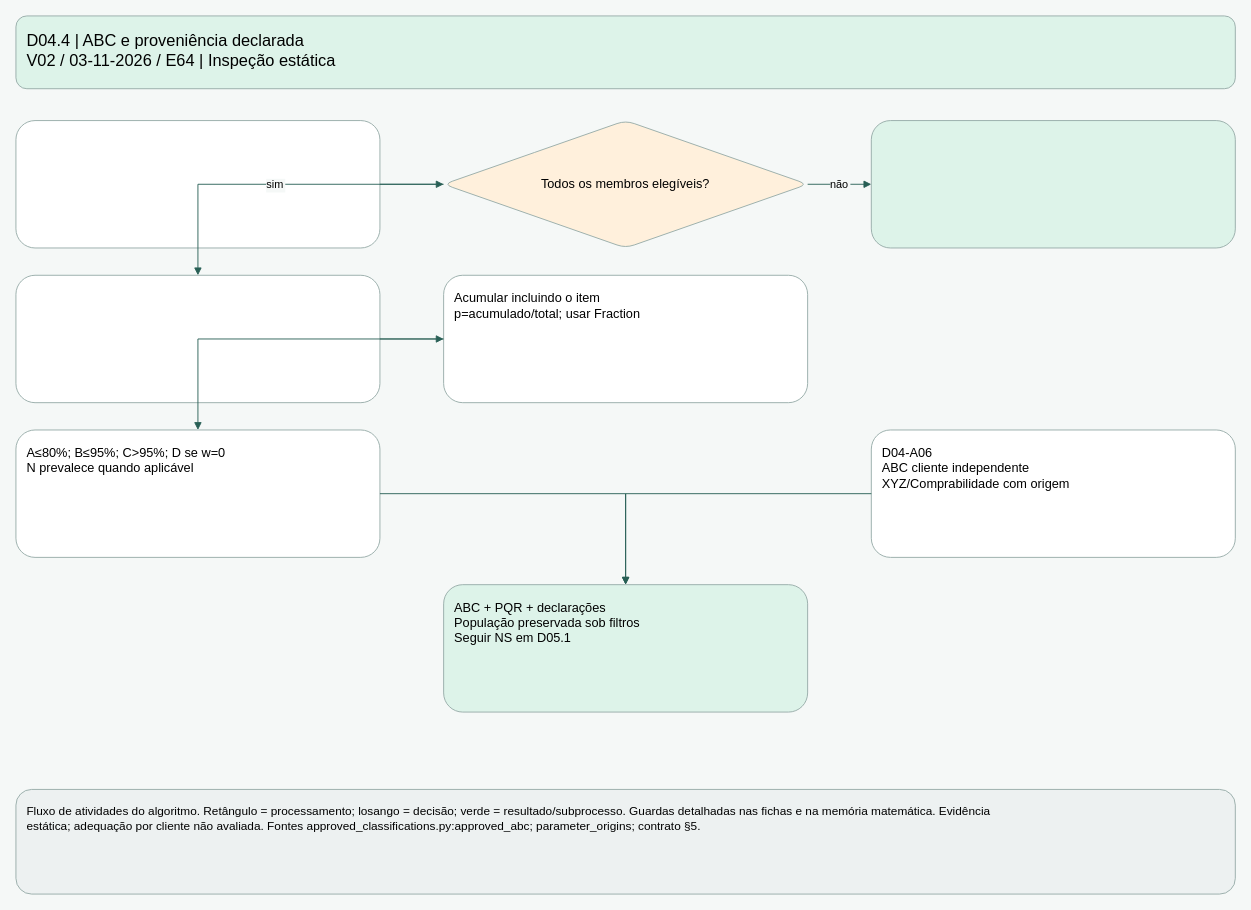
Image size: 1251x910. Some labels were removed from this diagram. The shapes that lost their labels are listed below. From the top down, each one's box as (x1, y1, x2, y2) in pixels, then its label:
(15, 120, 380, 248): D04-A05 Agrupar coortes por datas MD exatas
(870, 120, 1235, 248): ABC indisponível para a coorte abc_cohort_incomplete
(15, 274, 380, 403): w=μ×C_MD Ordenar por valor, SKU, Local e id
